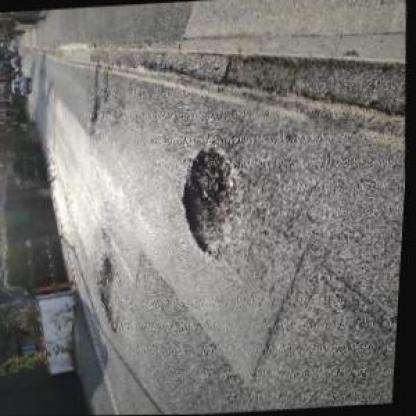pothole: (174, 141, 249, 261), (94, 255, 128, 334)
